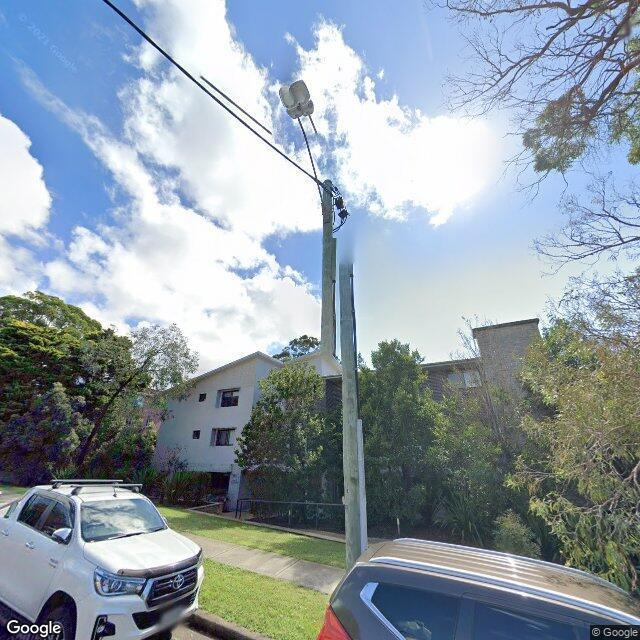streetlight: (278, 81, 329, 217)
timber-pole: (320, 176, 364, 578)
